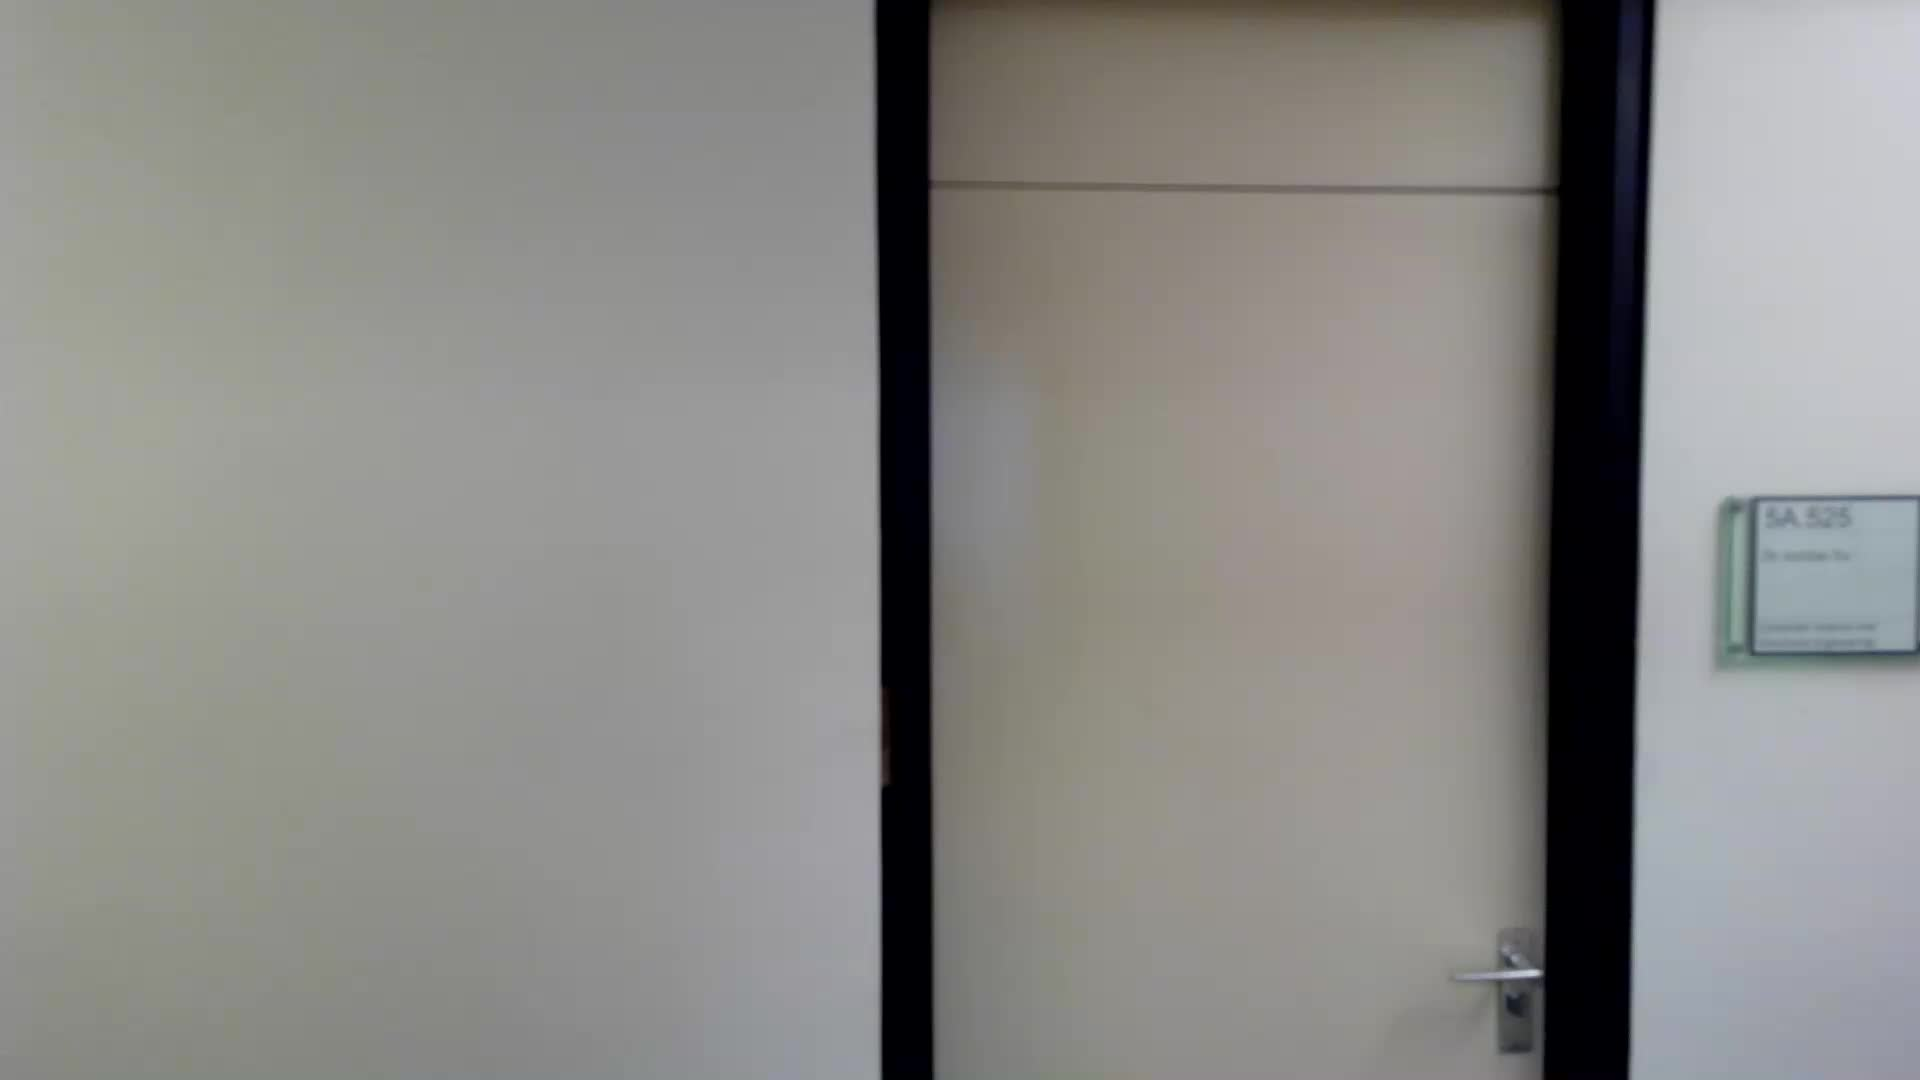Door: (856, 164, 1662, 1080)
